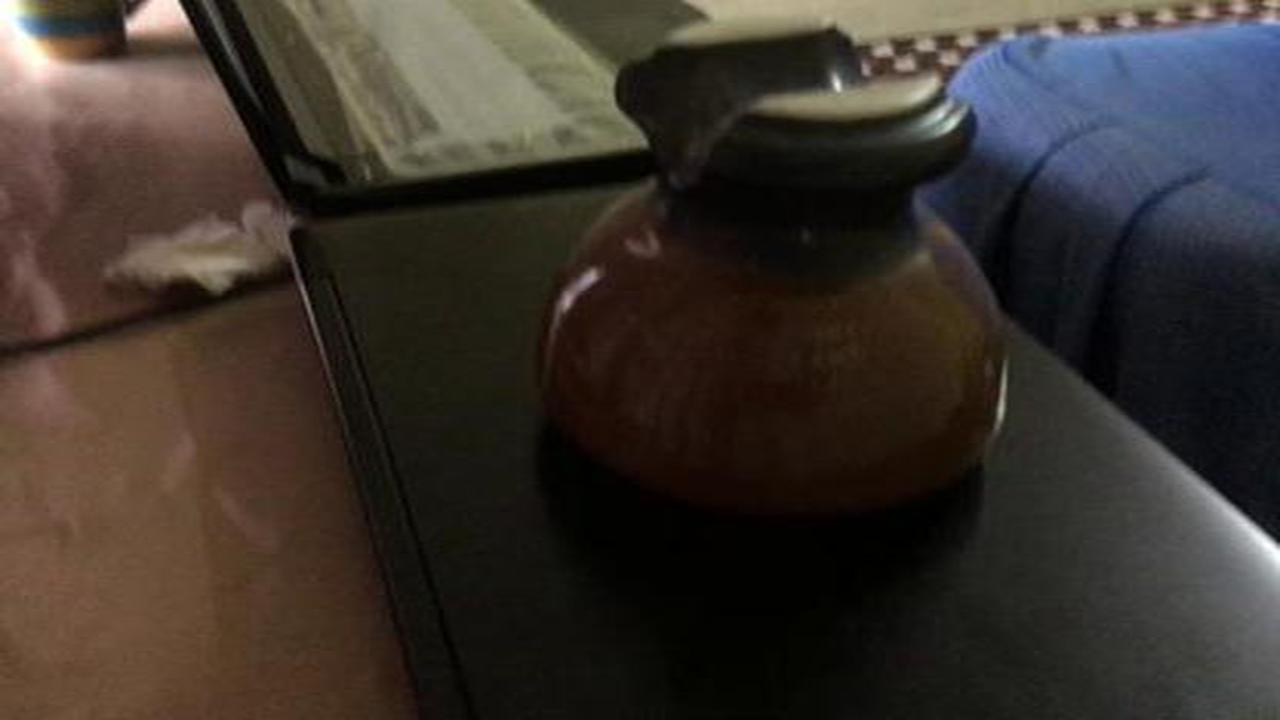insulator_pin: (524, 11, 1041, 534)
